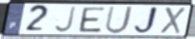2: (23, 4, 52, 35)
E: (79, 7, 108, 34)
J: (132, 5, 160, 36), (53, 5, 77, 34)
U: (104, 6, 135, 36)
X: (159, 6, 187, 35)
